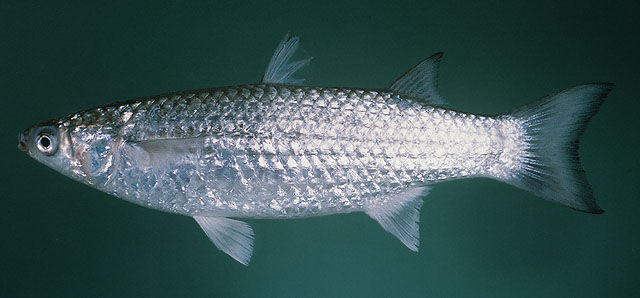fish: (15, 30, 617, 270)
